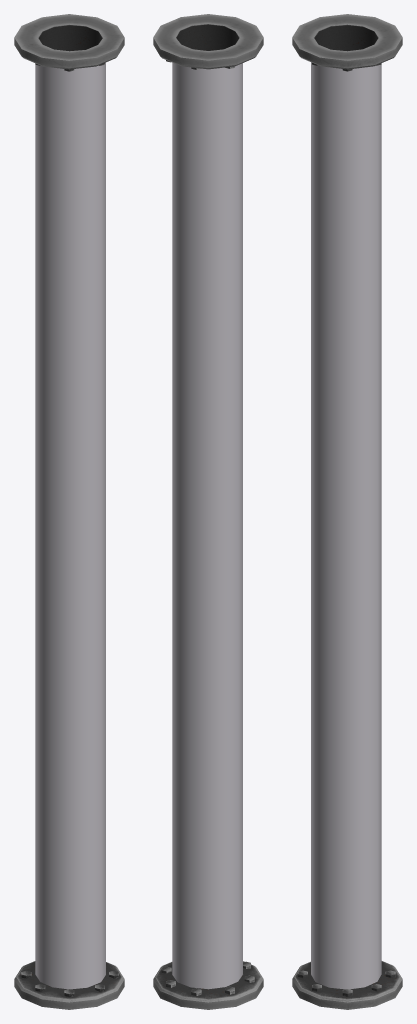
Rendered from straight long.glb.
3 views of the same model, side by side, from view 1: azimuth 90°, elevation 25°; view 2: azimuth 210°, elevation 25°; view 3: azimuth 270°, elevation 25° (orthographic).
Visible parts, largest first — view 1: straight_0.001; view 2: straight_0.001; view 3: straight_0.001.
Part boxes in pixels (bbox=[...]): straight_0.001: bbox=[14, 14, 124, 1009]; straight_0.001: bbox=[153, 14, 263, 1009]; straight_0.001: bbox=[292, 14, 402, 1009].
Bounding box in the file's own units: 0.2071 × 1.95 × 0.2063.
3 materials, 1 textured.
